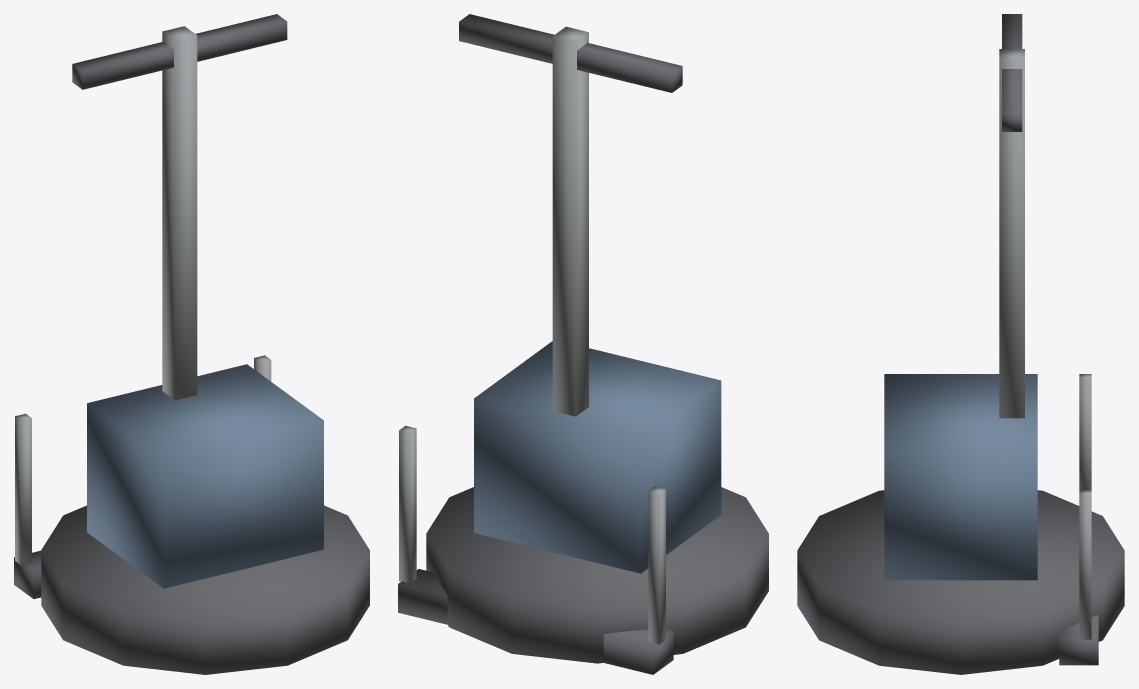
Rendered from floor_buffer__reinforced.glb.
3 renders of one model, left to right at view 1: azimuth 30°, elevation 25°; view 2: azimuth 150°, elevation 25°; view 3: azimuth 270°, elevation 25°, orthographic. The views are drawn at different scales.
Visible parts, largest first — view 1: world; view 2: world; view 3: world.
Boxes of the visible parts, left/top/right/bottom form: world: left=14, top=14, right=369, bottom=674; world: left=398, top=14, right=768, bottom=674; world: left=797, top=14, right=1124, bottom=674.
Bounding box in the file's own units: 0.6592 × 1.22 × 0.6592.
